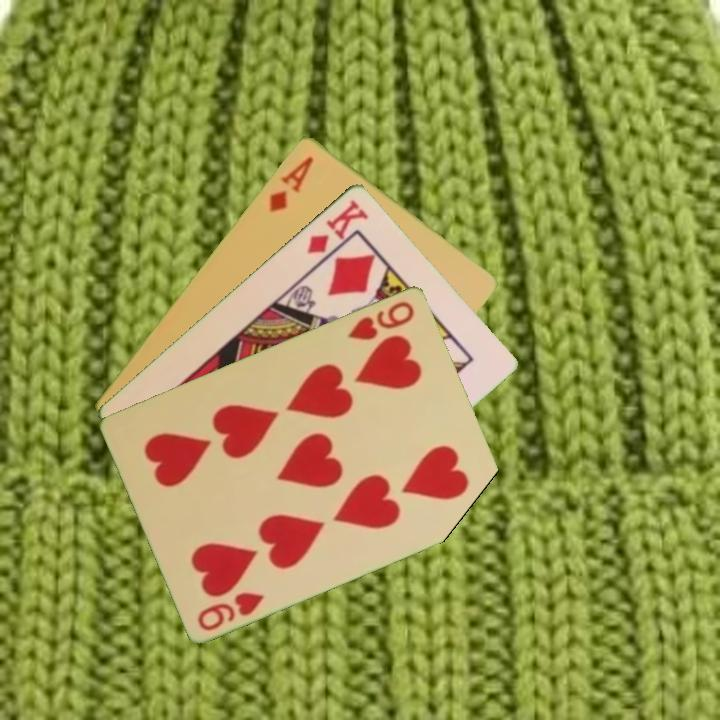9h: (344, 297, 418, 343), (194, 588, 268, 634)
Ad: (265, 152, 317, 215)
Kd: (303, 195, 371, 257)
